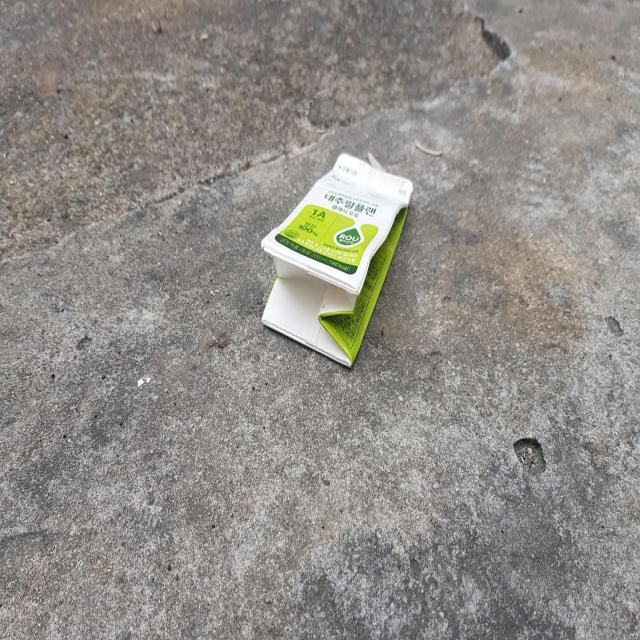paperpack: (261, 152, 413, 366)
